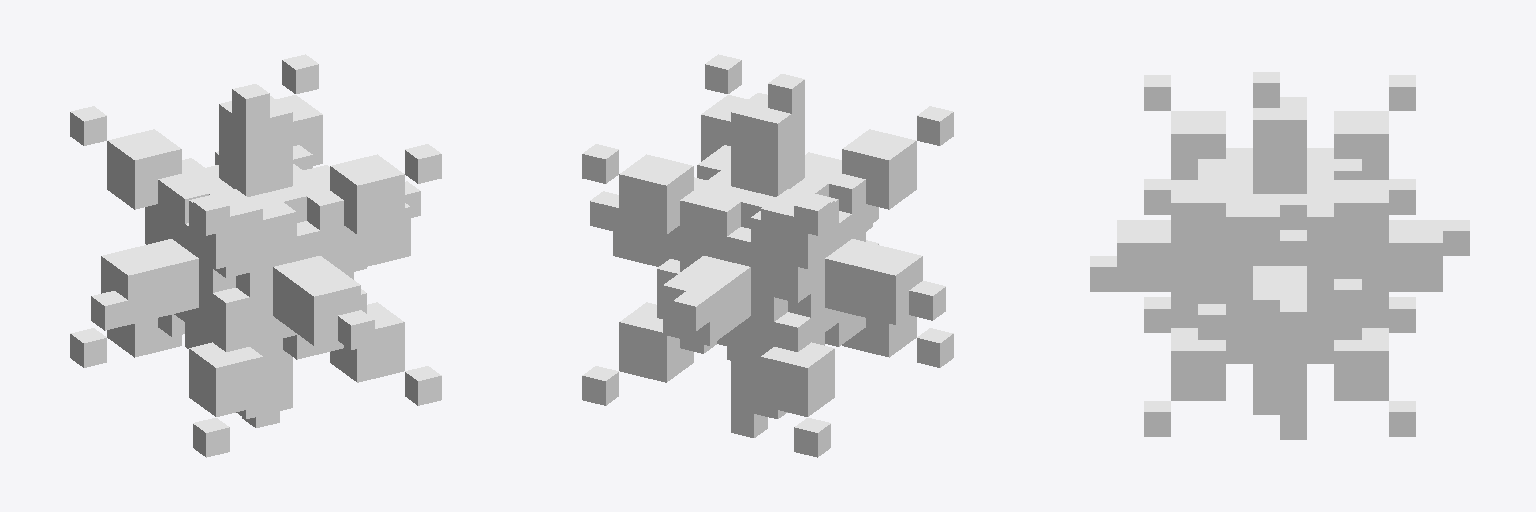
File: Explosion_1.obj
3 views of the same model, side by side, from view 1: azimuth 30°, elevation 25°; view 2: azimuth 150°, elevation 25°; view 3: azimuth 270°, elevation 25° (orthographic).
Visible parts, largest first — view 1: object 1; view 2: object 1; view 3: object 1.
Part boxes in pixels (bbox=[...]): object 1: bbox=[70, 54, 441, 457]; object 1: bbox=[582, 54, 953, 457]; object 1: bbox=[1090, 72, 1469, 439].
Size of the model in its own units: 1.4 by 1.4 by 1.4.